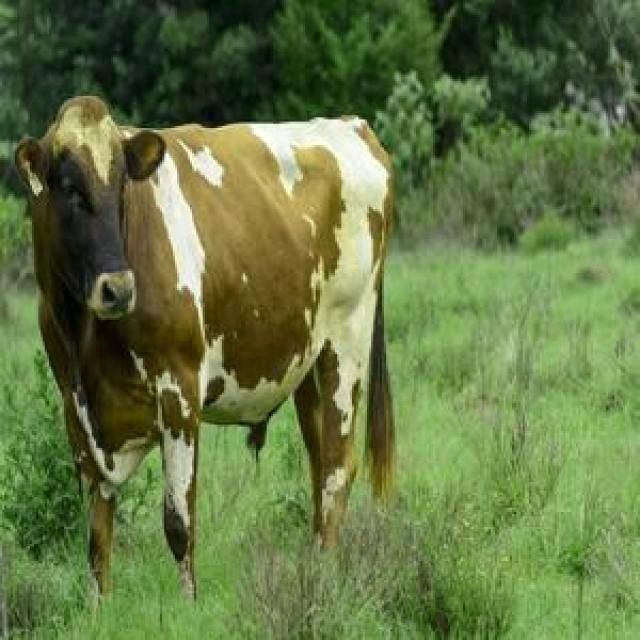cow: (16, 96, 394, 592)
